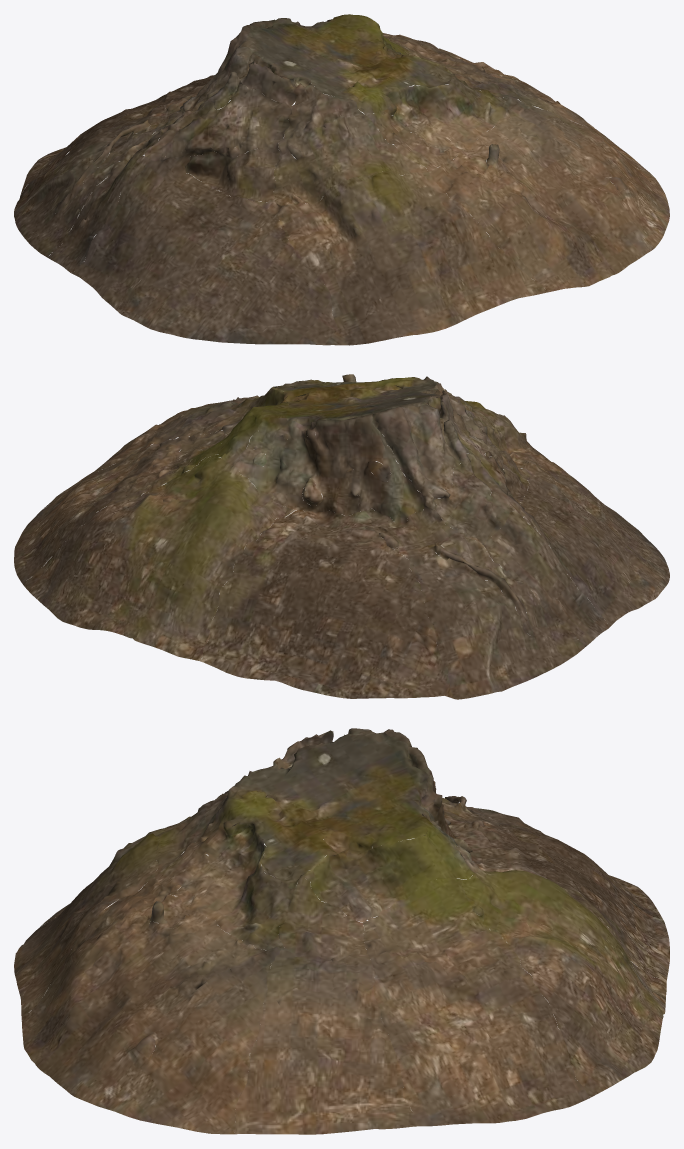
Rendered from tree_stump_02.glb.
The picture shows the model from 3 angles, top to bottom: view 1: azimuth 30°, elevation 25°; view 2: azimuth 150°, elevation 25°; view 3: azimuth 270°, elevation 25°; orthographic projection. The views are drawn at different scales.
Parts seen in each view (by area): view 1: tree_stump_02; view 2: tree_stump_02; view 3: tree_stump_02.
Boxes of the visible parts, <box> form: tree_stump_02: <box>14,14,669,345</box>; tree_stump_02: <box>14,374,669,699</box>; tree_stump_02: <box>14,728,669,1134</box>.
Size of the model in its own units: 1.52 by 0.5229 by 1.39.
Materials: 1 (1 with a texture image).
